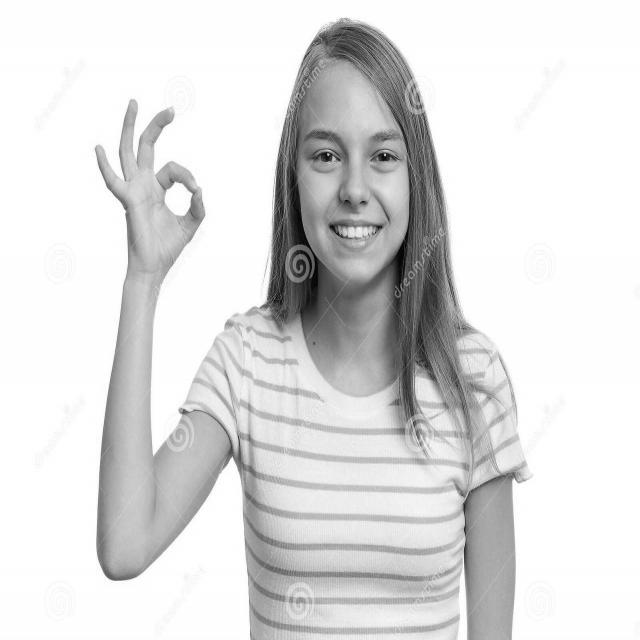perfect: (91, 91, 209, 294)
